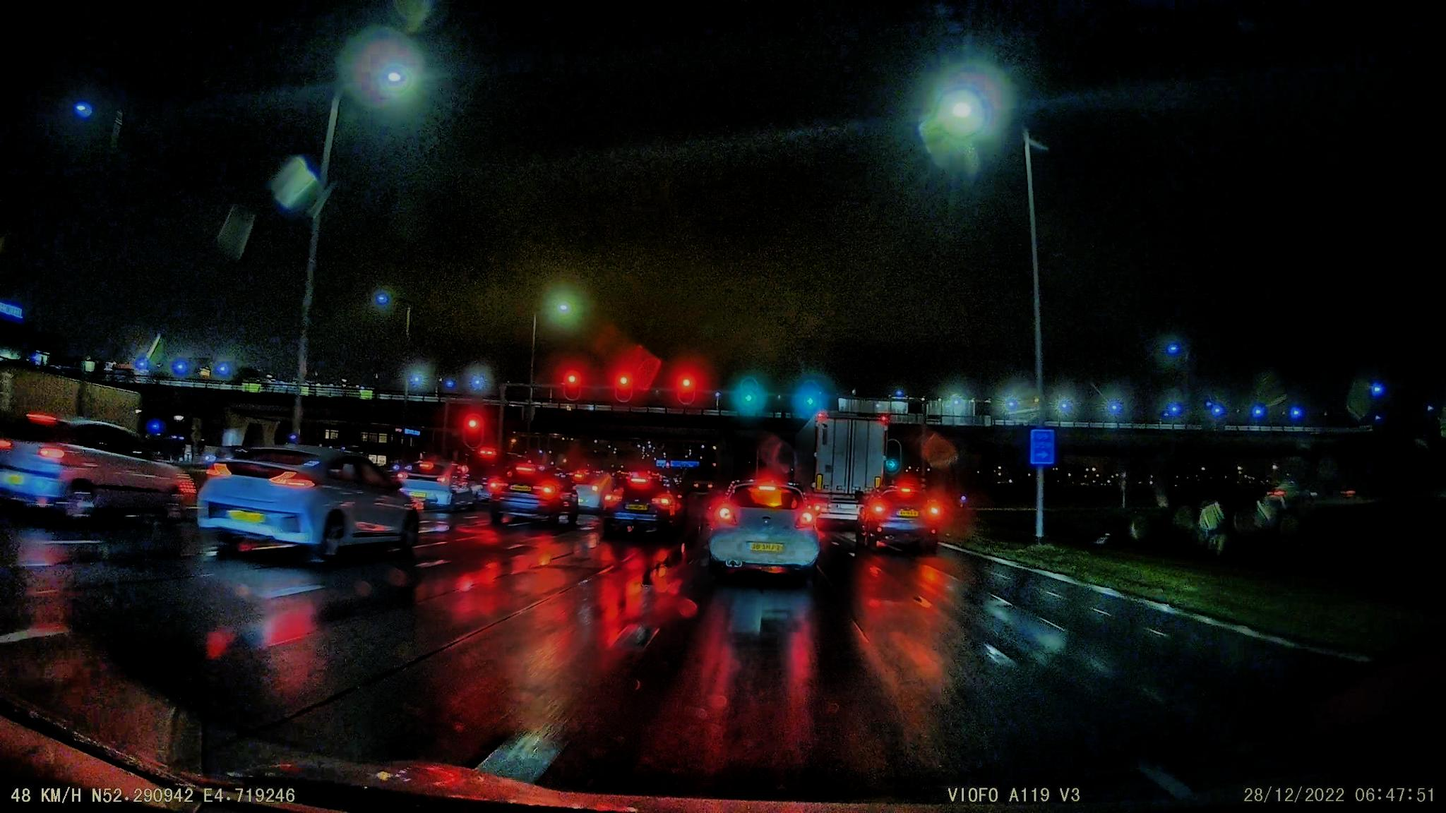Roads: (77, 536, 1339, 795)
